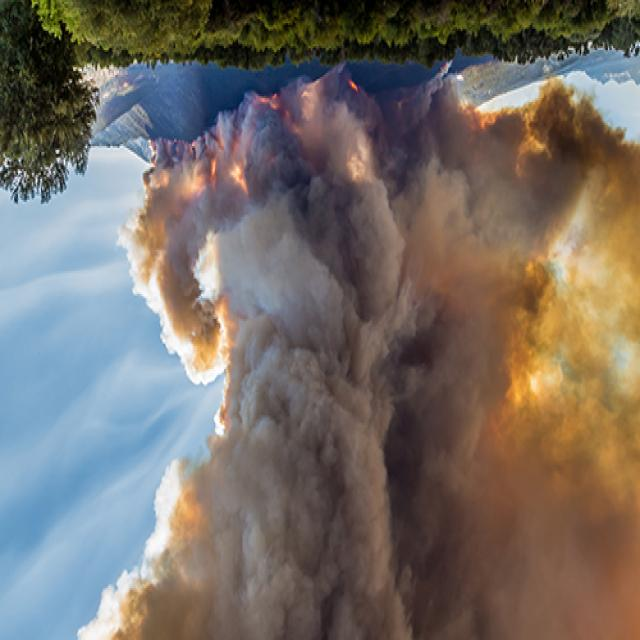fire: (145, 101, 259, 222), (463, 336, 565, 462), (254, 64, 364, 123)
